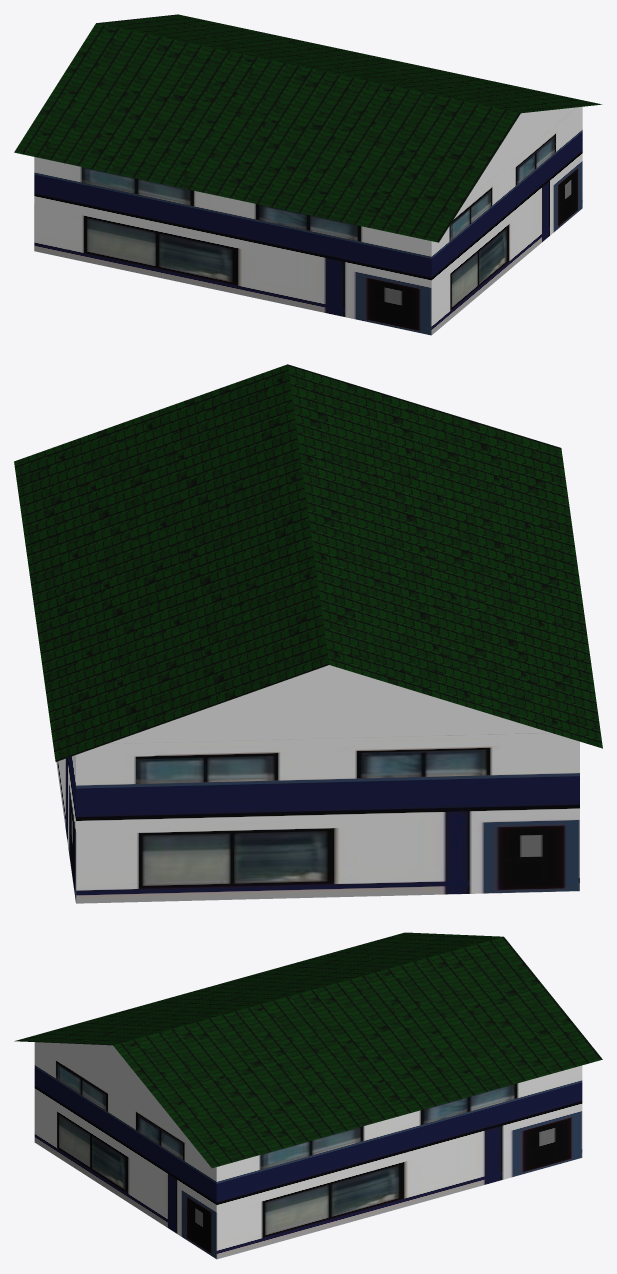
3 renders of one model, top to bottom at view 1: azimuth 30°, elevation 25°; view 2: azimuth 150°, elevation 25°; view 3: azimuth 270°, elevation 25°, orthographic. The views are drawn at different scales.
Visible parts, largest first — view 1: CityEngineMaterial_13_m, CityEngineMaterial_2_m, CityEngineMaterial_3_m; view 2: CityEngineMaterial_13_m, CityEngineMaterial_2_m, CityEngineMaterial_3_m; view 3: CityEngineMaterial_13_m, CityEngineMaterial_2_m, CityEngineMaterial_3_m.
Boxes of the visible parts, <box> form: CityEngineMaterial_13_m: <box>14,14,602,242</box>; CityEngineMaterial_2_m: <box>34,106,582,335</box>; CityEngineMaterial_3_m: <box>465,107,575,200</box>; CityEngineMaterial_13_m: <box>14,364,602,761</box>; CityEngineMaterial_2_m: <box>56,733,579,903</box>; CityEngineMaterial_3_m: <box>107,665,550,743</box>; CityEngineMaterial_13_m: <box>14,932,602,1168</box>; CityEngineMaterial_2_m: <box>34,1042,582,1259</box>; CityEngineMaterial_3_m: <box>42,1042,183,1133</box>.
Size of the model in its own units: 36.62 by 11.52 by 38.65.
